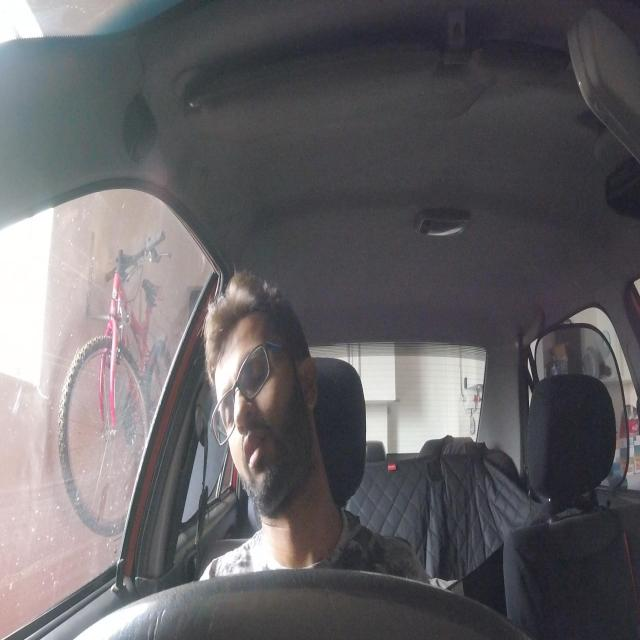close: (218, 382, 238, 433)
